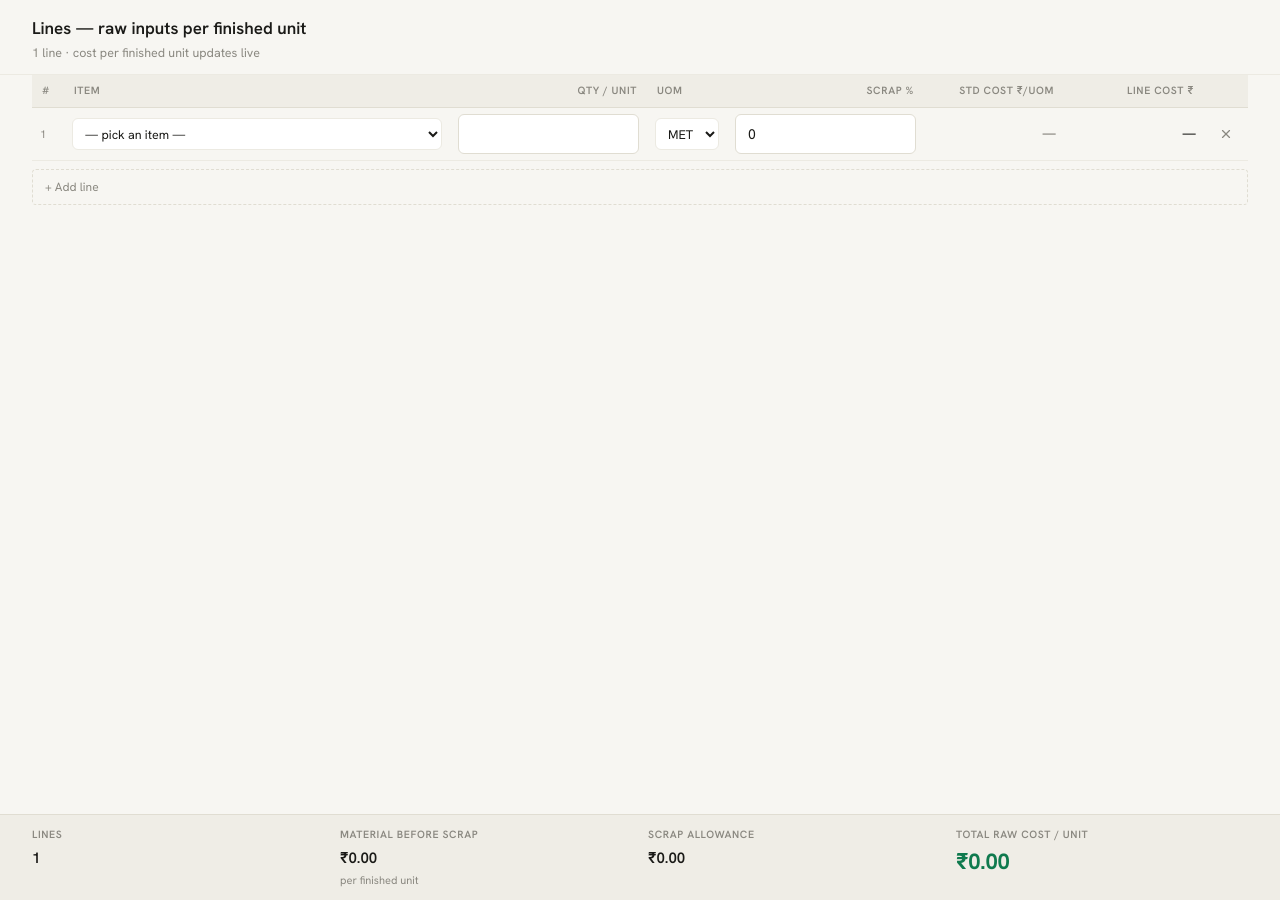
Test case: BomLinesEditor › picking an item auto-fills the UOM from primary_uom
Select "CON-THR — Silk thread" in the dropdown named "item for line 1" at x=257, y=134, box [72, 118, 442, 150]
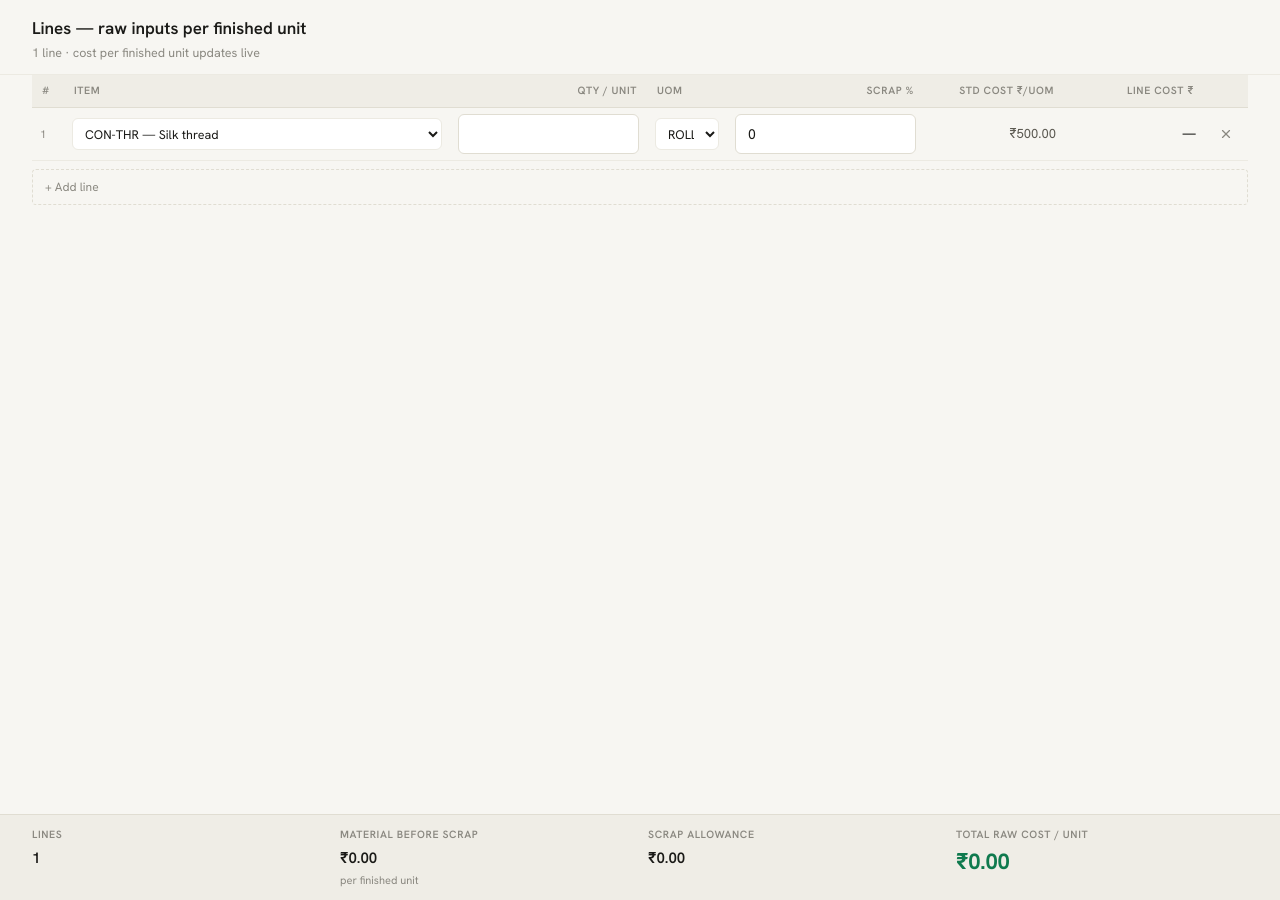
Expected: the dropdown named "uom for line 1" shows "ROLL", [655, 118, 719, 150]
